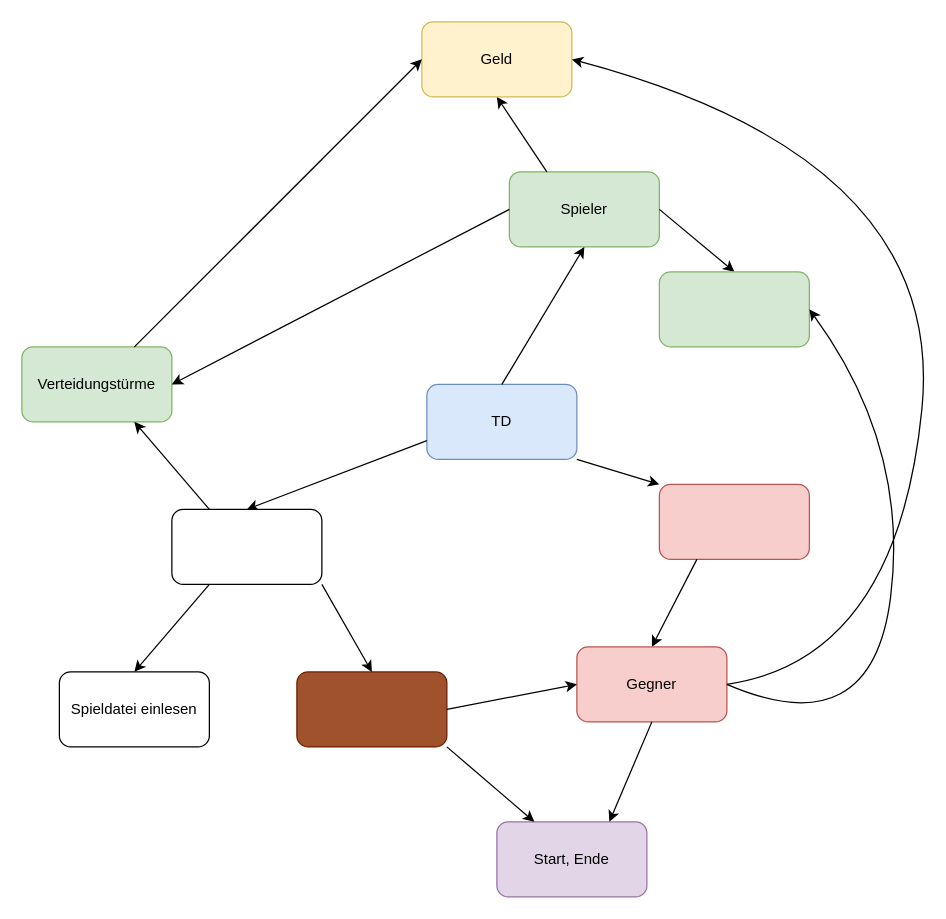
Some shapes in this 946 by 919 pixel diagram are drawn without their labels. The shapes that lost their labels are listed below. From the top down, each one's centre as x and y in pixels, then its label:
At point 733,309: "Leben".
At point 733,521: "Welle".
At point 246,546: "Spielefeld".
At point 371,709: "Weg".
